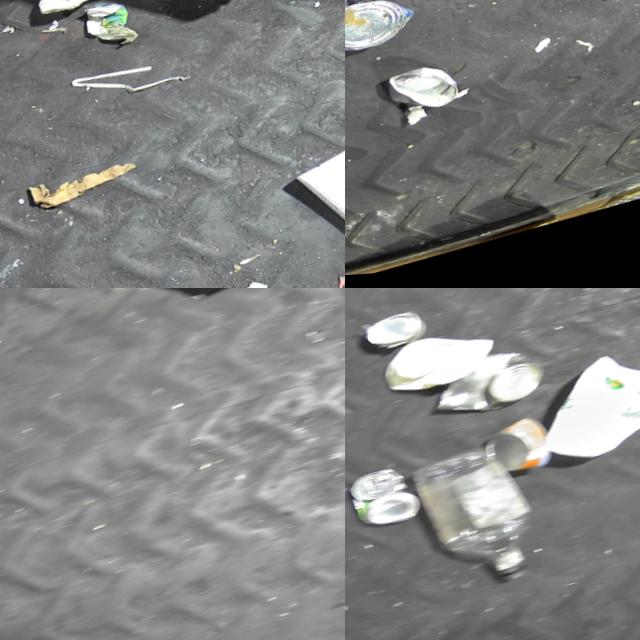can: (426, 346, 545, 429), (345, 458, 425, 543), (482, 412, 560, 490), (382, 62, 462, 126), (345, 0, 416, 62), (361, 307, 436, 363), (27, 0, 116, 21)
